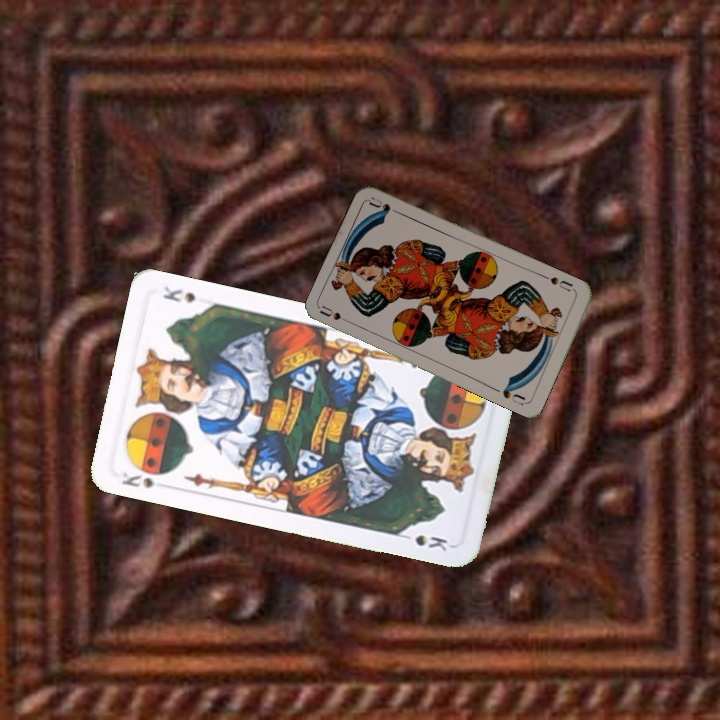SK: (117, 468, 159, 491)
SU: (317, 302, 357, 327), (546, 273, 575, 294)
